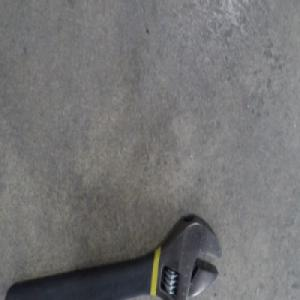AdjustableWrench: (6, 212, 224, 299)
